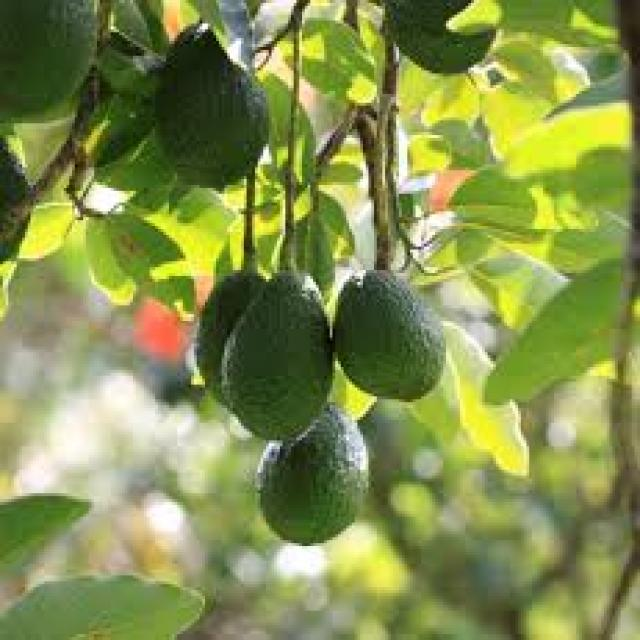avocado: (152, 3, 281, 202), (221, 248, 339, 445), (342, 263, 460, 410), (254, 409, 369, 549), (168, 270, 266, 396), (0, 0, 94, 126)
